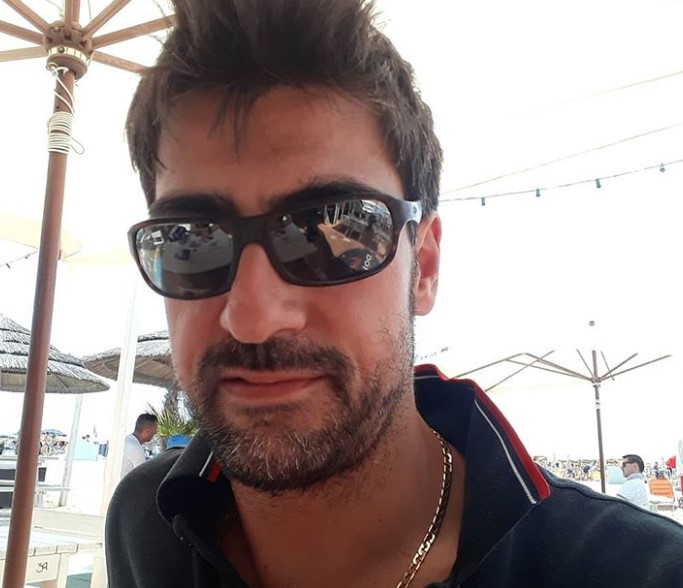face_no_mask: (140, 40, 444, 482)
